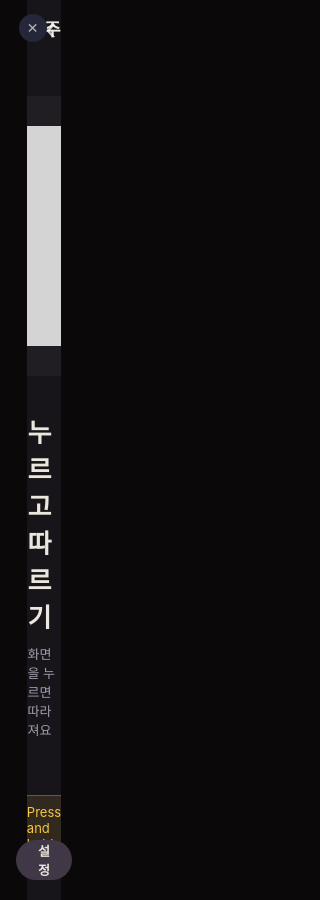
Test: S-04 상태 순환 (현행 PourInteraction) › 누르면 즉시 따르기 시작(롱프레스 게이트 없음)
Press the mouse on the button "누르고 따르기 화면을 누르면 따라져요 Press and hold" at x=44, y=478, box [27,56,60,899]
Wait 200 ms
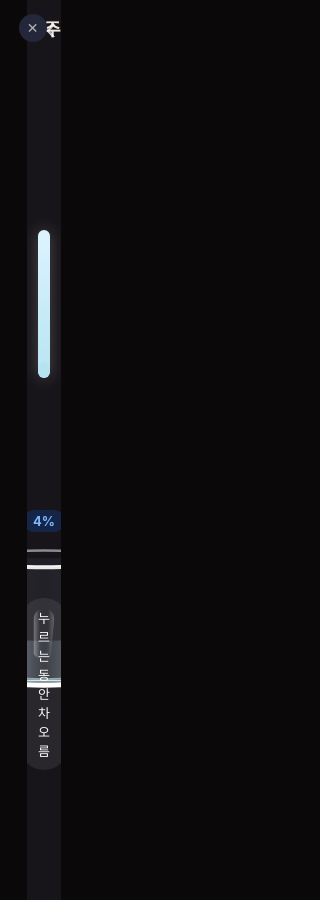
Expected: the text "누르는 동안 차오름" is shown, [27,598,60,770]
